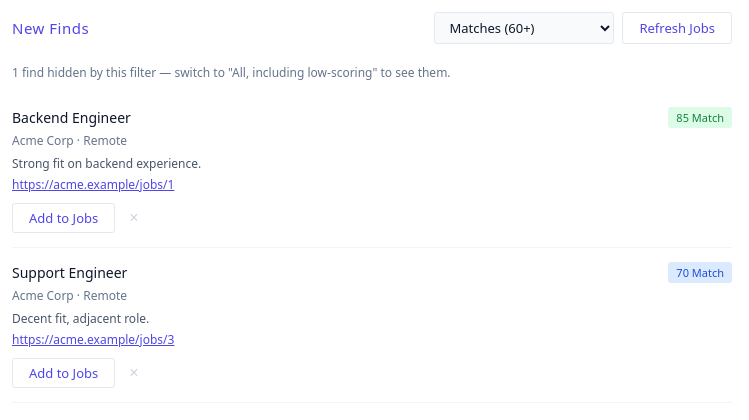
Scenario: JobFinds › dismisses a find and removes it from the list
Check: the text "Backend Engineer" is shown, box top-left (12, 108), bottom-right (131, 127)
Click the button named "dismiss backend engineer".
click(134, 218)  # box top-left (123, 203), bottom-right (145, 233)
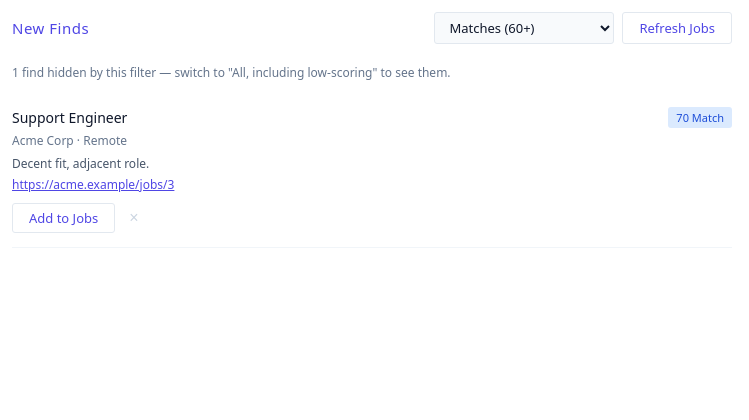
Check: the text "Backend Engineer" is gone
